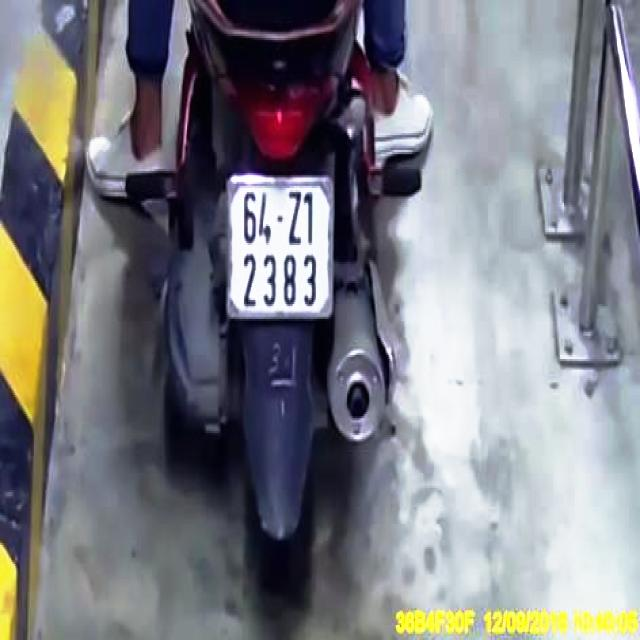license_plate: (231, 181, 332, 319)
